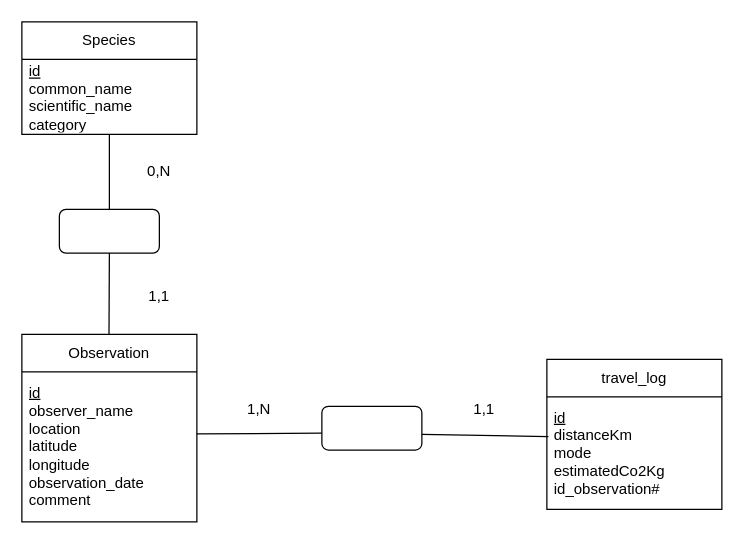
Some shapes in this 744 by 544 pixel diagram are drawn without their labels. Here are the shapes that lost their labels. From the top down, the centre of each, then its label:
(x=108, y=230): is observed
(x=371, y=427): Has
